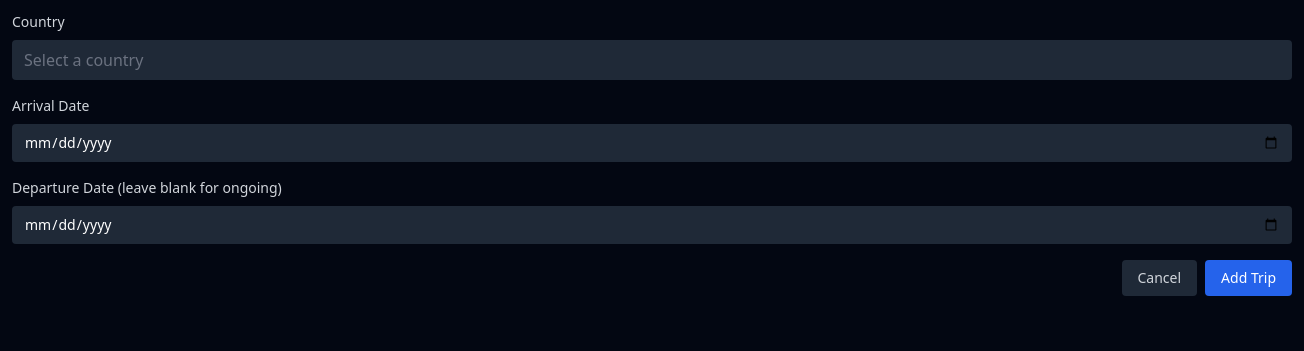
Test case: TripForm › form submission - error cases › shows error when no country is selected
The width and height of the screenshot is (1304, 351).
Step 1. Click the button "Add Trip" → (1249, 278), box [1205,260,1292,296]
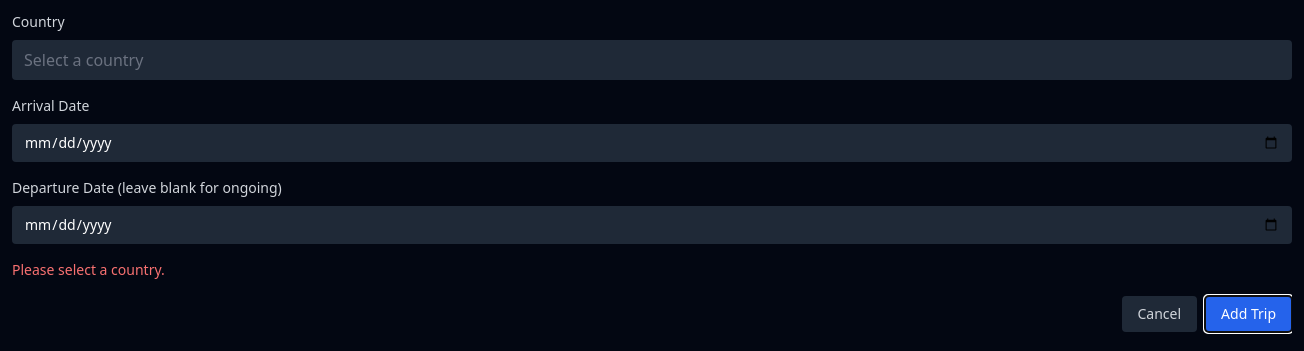
Now the text "Please select a country." is shown, box [12,260,165,279]
